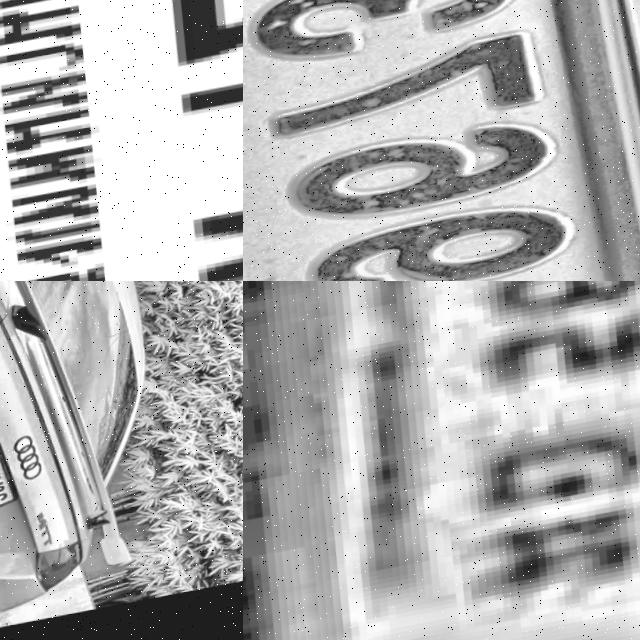license-plate: (243, 281, 640, 640), (243, 0, 640, 281), (0, 0, 243, 281), (0, 424, 32, 530)
